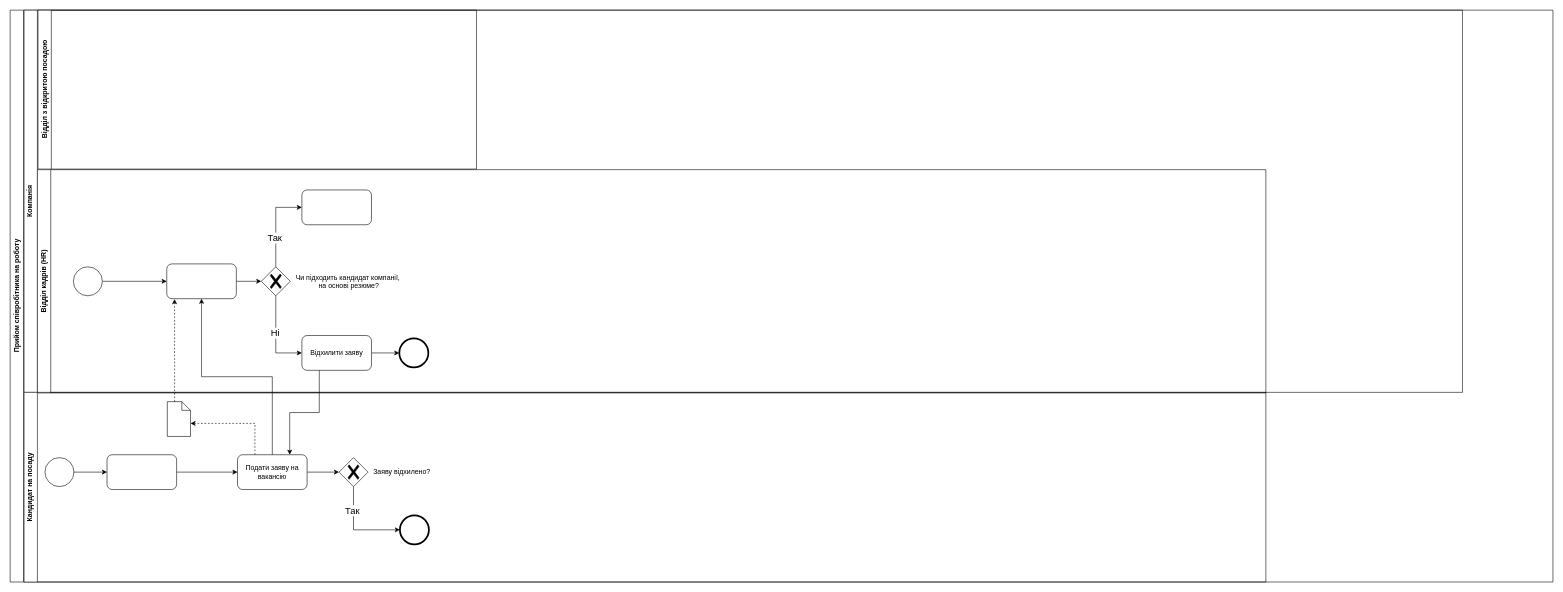
This 1563x592 diagram has some shape labels left out. Each missing label, with the centre of its shape:
"Назначити співбесіду" goes at point (336, 207).
"Резюме" goes at point (179, 418).
"Розглянути заяву та резюме" goes at point (201, 281).
"Створити резюме" goes at point (141, 472).
